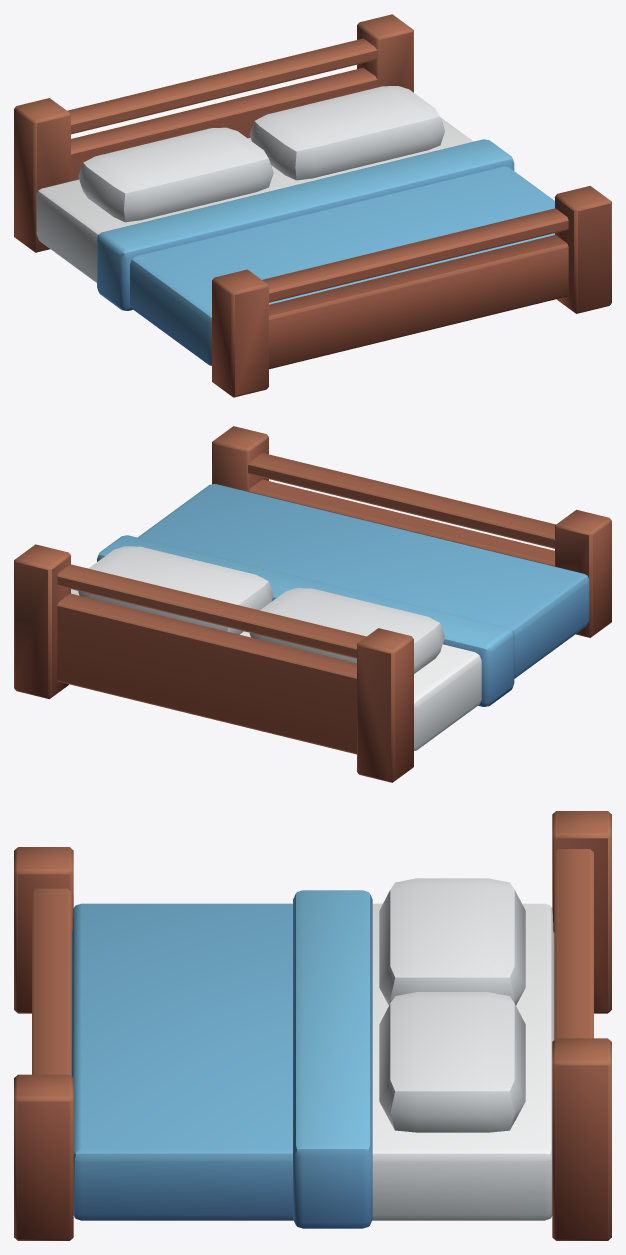
The model's file is bed_double_b.glb.
3 views of the same model, one above another, from view 1: azimuth 30°, elevation 25°; view 2: azimuth 150°, elevation 25°; view 3: azimuth 270°, elevation 25° (orthographic). The views are drawn at different scales.
Parts seen in each view (by area): view 1: bed_double_B; view 2: bed_double_B; view 3: bed_double_B.
Part boxes in pixels (x1,y1,x2,y2): bed_double_B: (14, 14, 611, 397); bed_double_B: (14, 426, 611, 782); bed_double_B: (14, 811, 611, 1240).
Bounding box in the file's own units: 2.17 × 0.6999 × 2.1.
Materials: 1 (1 with a texture image).
